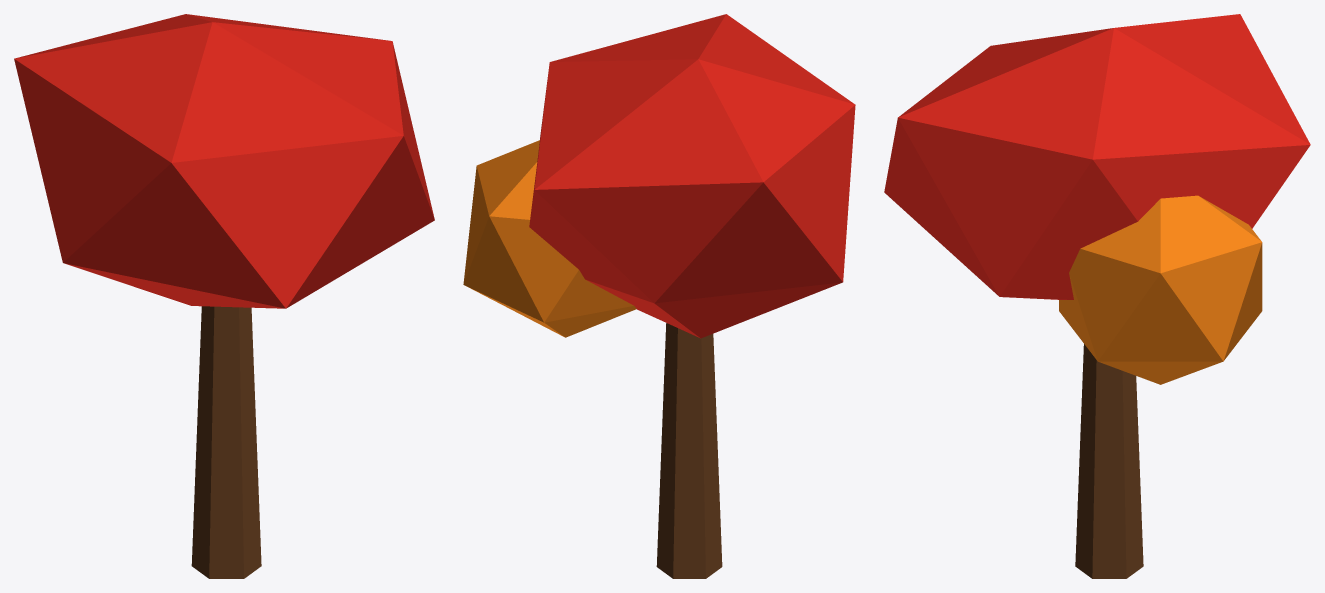
The model's file is maple_tree.glb.
3 views of the same model, side by side, from view 1: azimuth 30°, elevation 25°; view 2: azimuth 150°, elevation 25°; view 3: azimuth 270°, elevation 25° (orthographic). The views are drawn at different scales.
Visible parts, largest first — view 1: maple_tree; view 2: maple_tree; view 3: maple_tree.
Boxes of the visible parts, x1,y1,x2,y2 form: maple_tree: [14, 14, 434, 578]; maple_tree: [463, 14, 855, 578]; maple_tree: [884, 14, 1310, 578].
Size of the model in its own units: 2.41 by 3.45 by 2.5.
